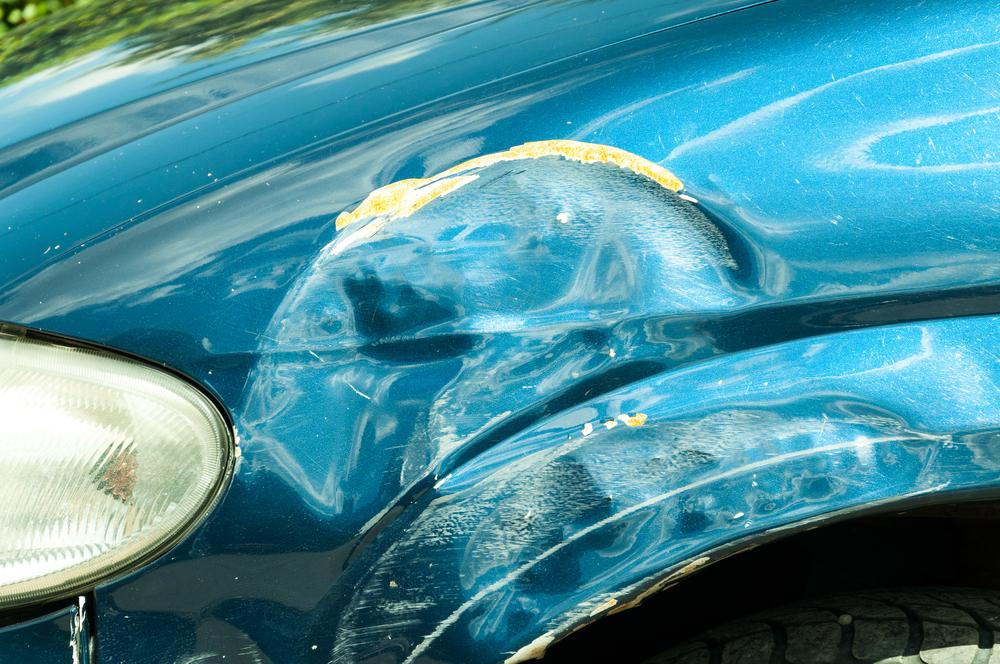dent: (241, 147, 763, 515), (460, 400, 1000, 649)
scratch: (331, 447, 568, 664)
